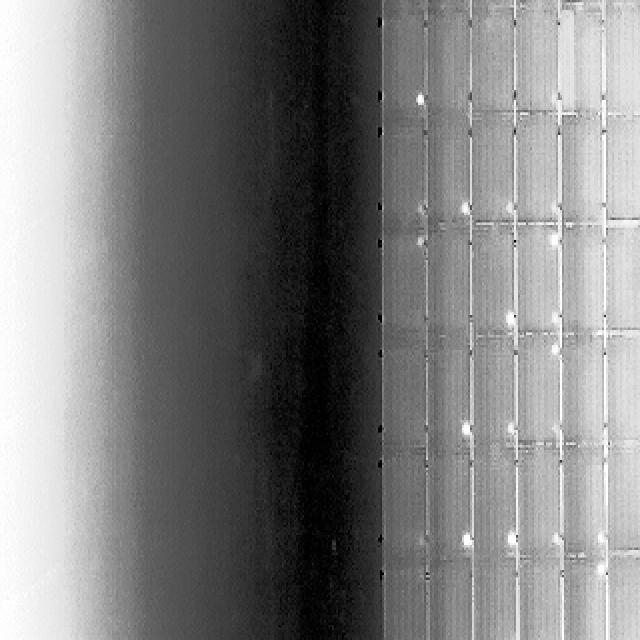Hotspots: (447, 529, 471, 556), (491, 305, 515, 329), (497, 531, 516, 555), (458, 531, 477, 554), (544, 230, 562, 253), (544, 194, 561, 218), (459, 418, 476, 440), (547, 532, 563, 554), (547, 339, 563, 361), (592, 530, 607, 552), (413, 88, 428, 109), (500, 419, 517, 436), (548, 417, 560, 441), (547, 308, 561, 328), (546, 91, 560, 109), (501, 199, 515, 216), (458, 203, 472, 218), (594, 564, 606, 578)
PV-modules: (422, 112, 469, 228), (467, 335, 515, 447), (424, 228, 472, 339), (423, 449, 470, 561), (516, 446, 562, 560), (516, 220, 562, 334), (420, 9, 469, 116), (467, 117, 513, 230), (516, 116, 562, 229), (559, 446, 606, 556), (379, 341, 425, 453), (470, 446, 515, 560), (382, 115, 427, 229), (558, 338, 604, 448), (379, 449, 424, 560), (518, 334, 563, 445), (472, 225, 516, 338), (558, 118, 604, 226), (516, 9, 562, 117), (424, 338, 469, 448), (558, 224, 603, 334), (558, 7, 603, 115), (382, 10, 426, 120), (378, 233, 424, 338), (472, 7, 516, 114), (600, 332, 640, 442), (602, 8, 640, 118), (604, 223, 640, 335), (604, 442, 640, 552), (604, 115, 640, 220), (560, 560, 606, 640), (519, 562, 566, 640), (424, 563, 471, 640), (379, 564, 426, 640), (470, 562, 513, 640), (600, 558, 640, 638), (422, 0, 470, 8), (514, 0, 562, 8), (378, 0, 422, 8), (470, 0, 514, 5), (558, 0, 602, 5), (602, 0, 640, 2)
